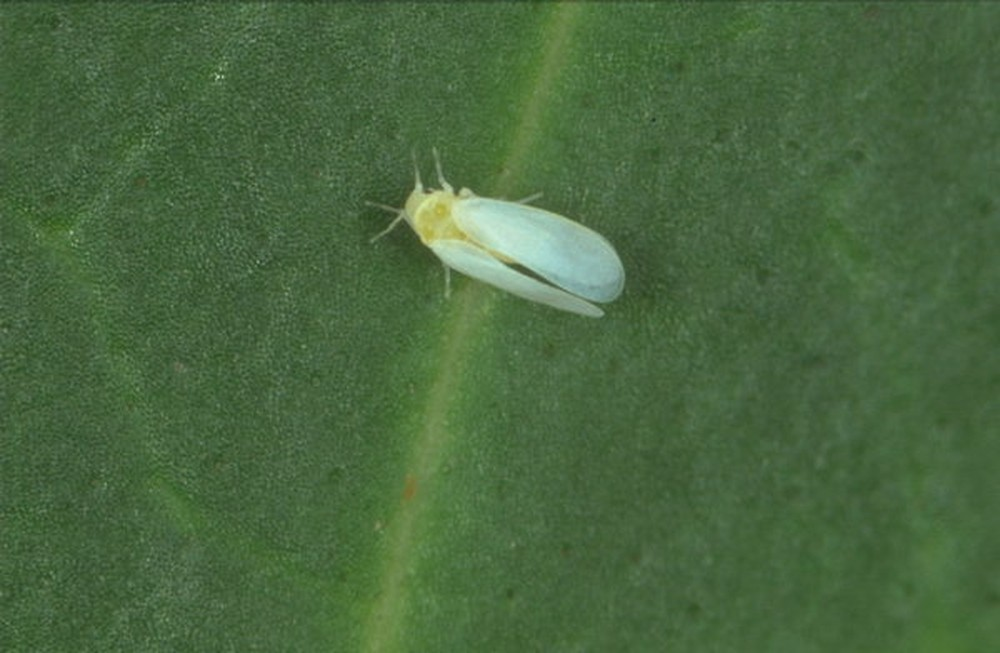Mosca Blanca: (356, 134, 640, 344)
